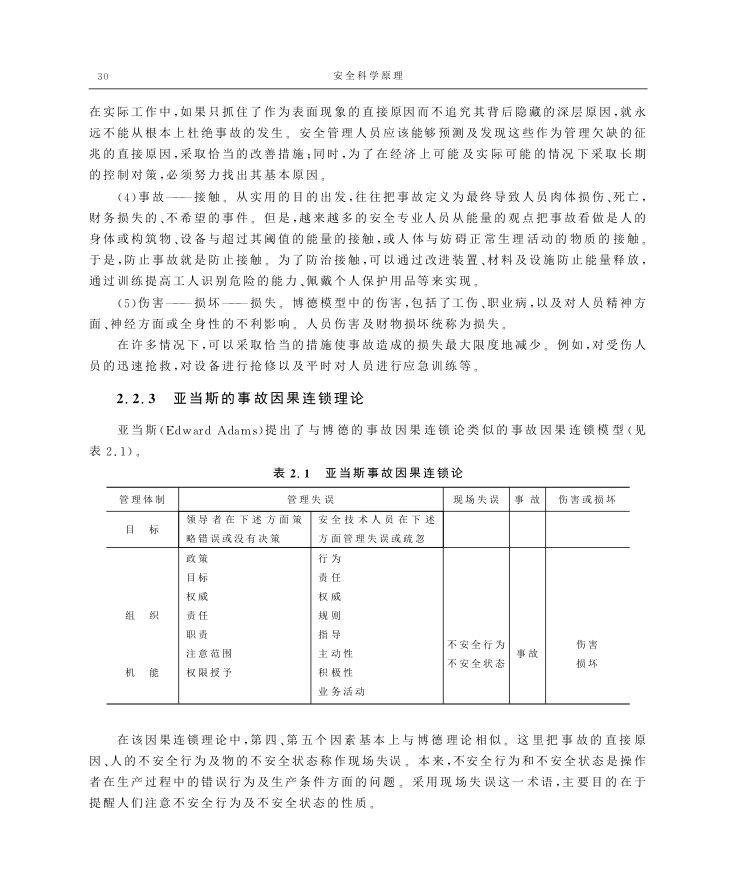table: (106, 485, 629, 704)
